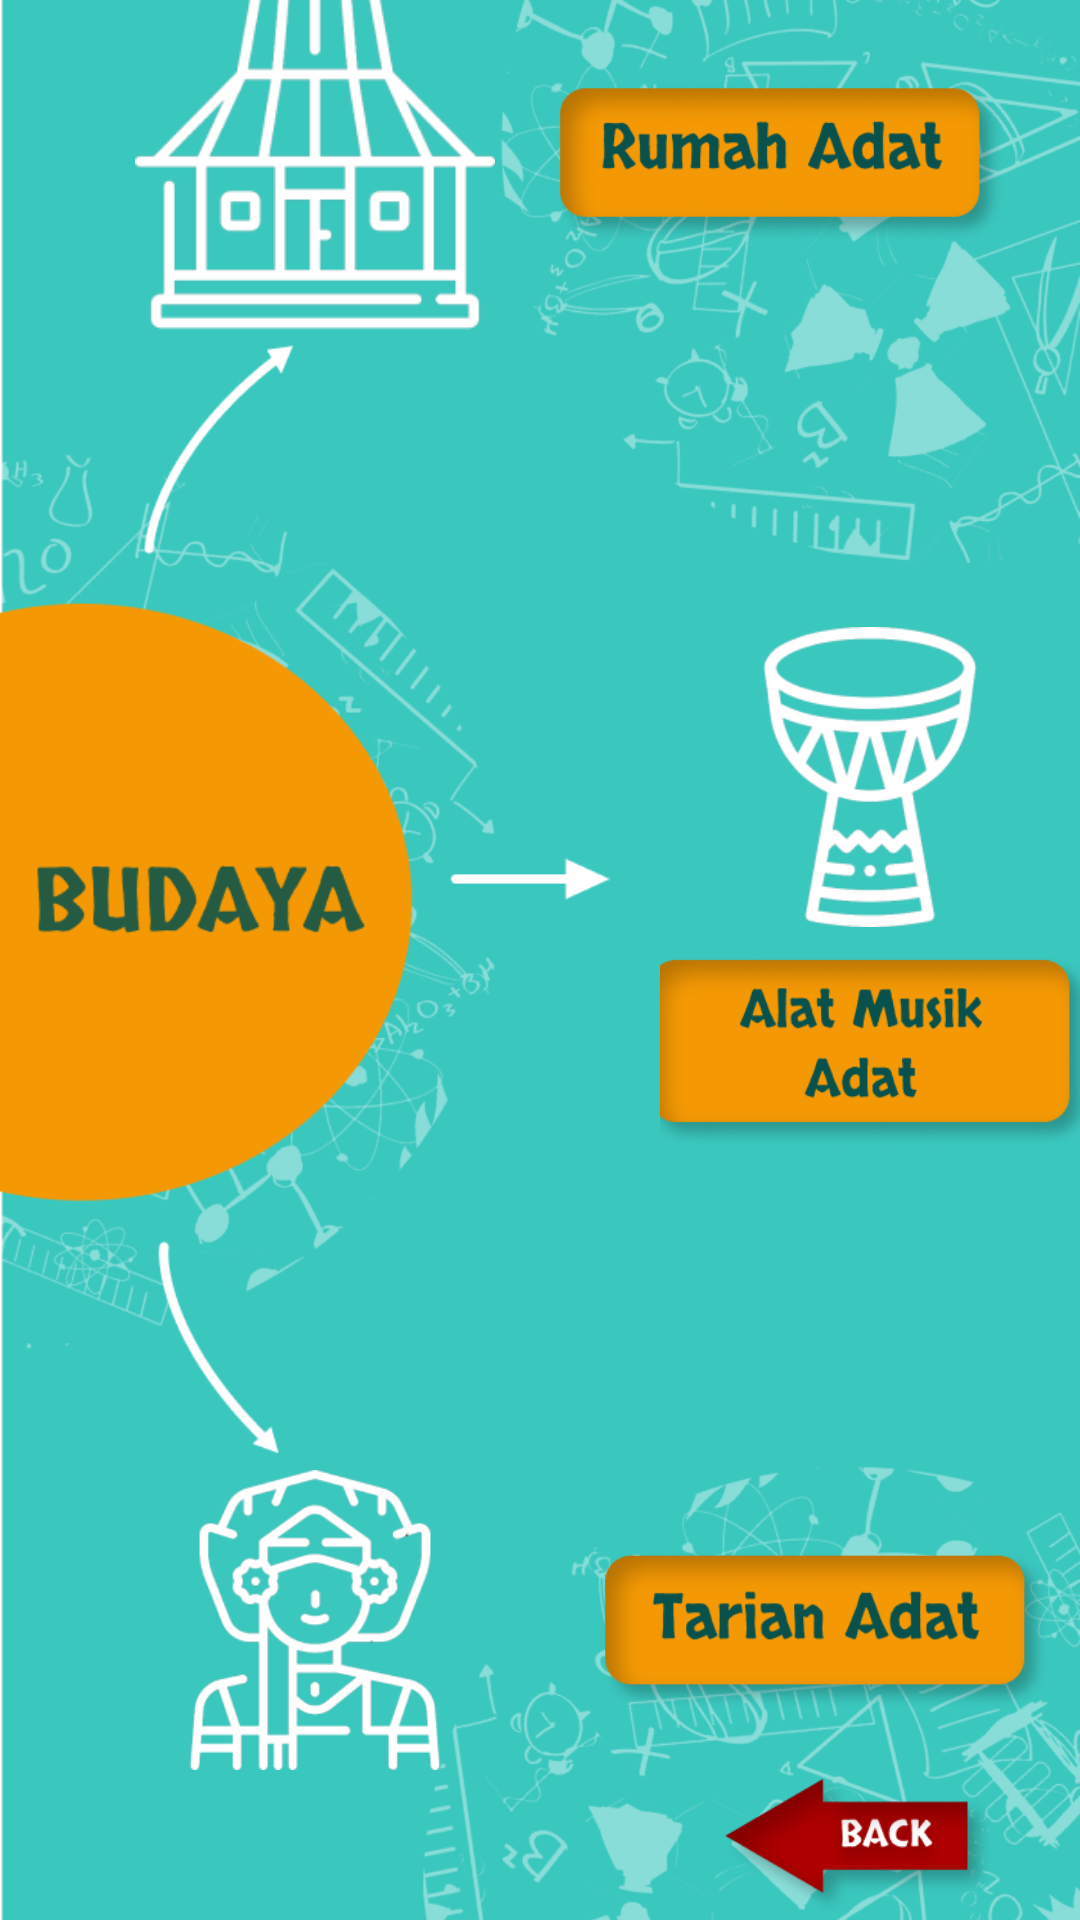

Icon bounding boxes for this 1080 x 1920 phone screenshot, format detection(x1, y1, x2, y2):
drum: detection(763, 627, 977, 927)
